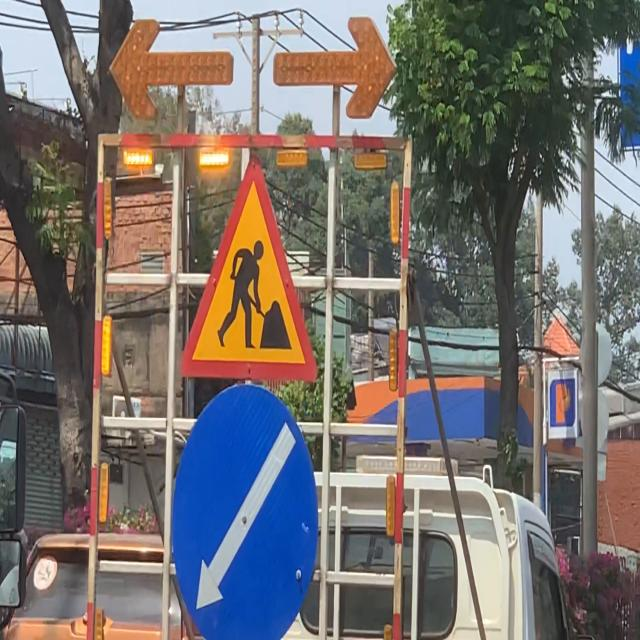Hieu lenh: (169, 386, 317, 640)
Nguy hiem: (177, 152, 321, 384)
